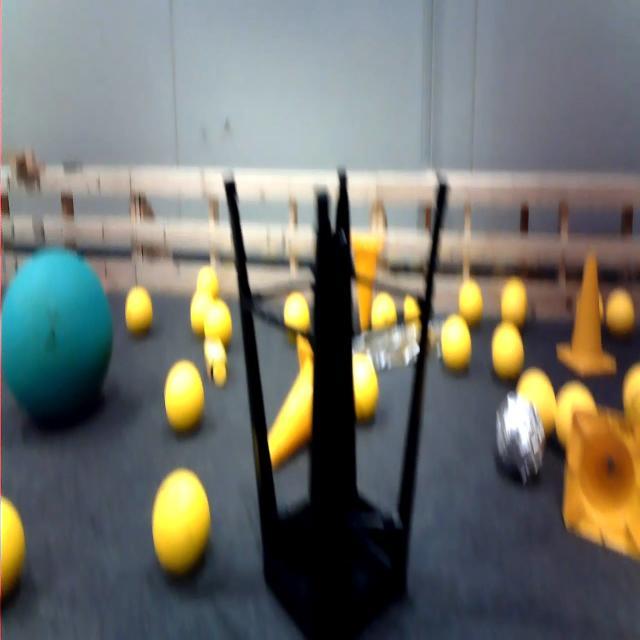fuel: (147, 464, 216, 575), (507, 356, 561, 439), (0, 482, 31, 619), (159, 356, 212, 434), (345, 341, 387, 424), (554, 376, 593, 460), (434, 309, 479, 378), (118, 274, 162, 340), (488, 322, 528, 393), (200, 299, 237, 357), (605, 281, 638, 341), (282, 288, 316, 345), (454, 270, 485, 332), (497, 276, 538, 320), (369, 287, 400, 338), (620, 356, 640, 434), (188, 287, 220, 334), (197, 261, 220, 301)
